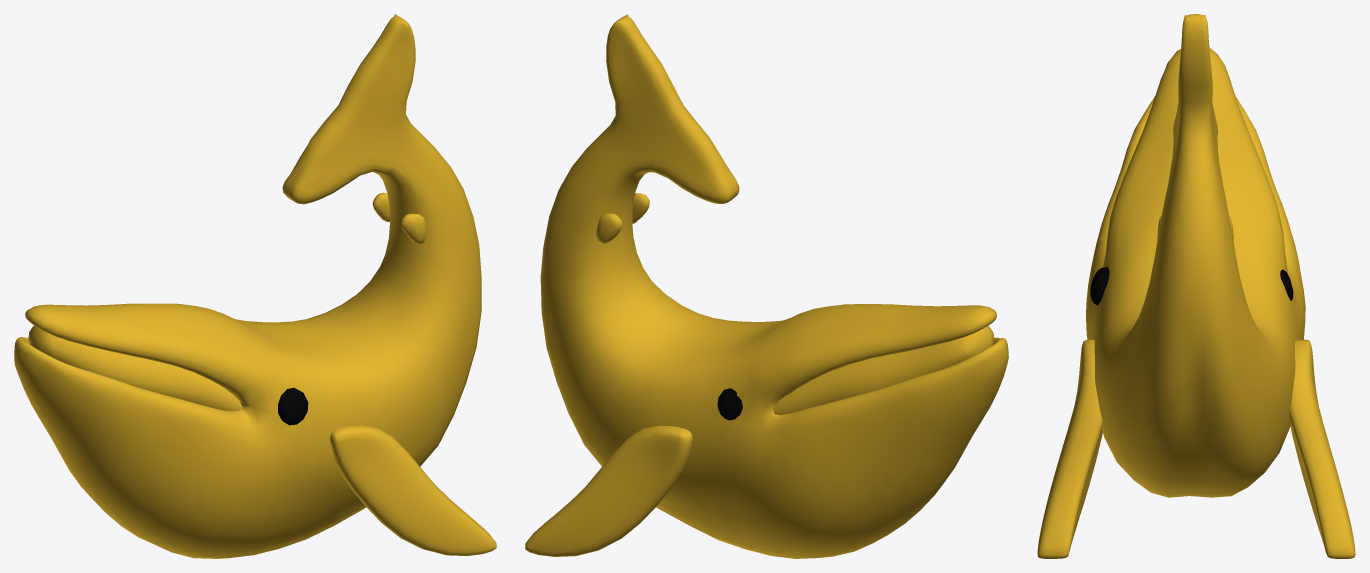
File: whale2 FBX.glb
3 renders of one model, left to right at view 1: azimuth 30°, elevation 25°; view 2: azimuth 150°, elevation 25°; view 3: azimuth 270°, elevation 25°, orthographic. The views are drawn at different scales.
Visible parts, largest first — view 1: Group31399, W2_4, W2_2, W2_5, W2_3; view 2: Group31399, W2_4, W2_2, W2_5, W2_3; view 3: Group31399, W2_4, W2_3.
Boxes of the visible parts, box(x1,y1,x2,y2) form: Group31399: box(14, 14, 481, 558); W2_4: box(330, 425, 496, 555); W2_2: box(28, 325, 242, 410); W2_5: box(372, 193, 426, 244); W2_3: box(278, 387, 308, 425); Group31399: box(540, 14, 1008, 558); W2_4: box(525, 425, 692, 556); W2_2: box(773, 325, 994, 415); W2_5: box(596, 193, 649, 244); W2_3: box(717, 388, 742, 420); Group31399: box(1086, 14, 1305, 497); W2_4: box(1037, 339, 1355, 558); W2_3: box(1090, 267, 1293, 305).
Size of the model in its own units: 0.8311 by 0.8533 by 0.4613.
